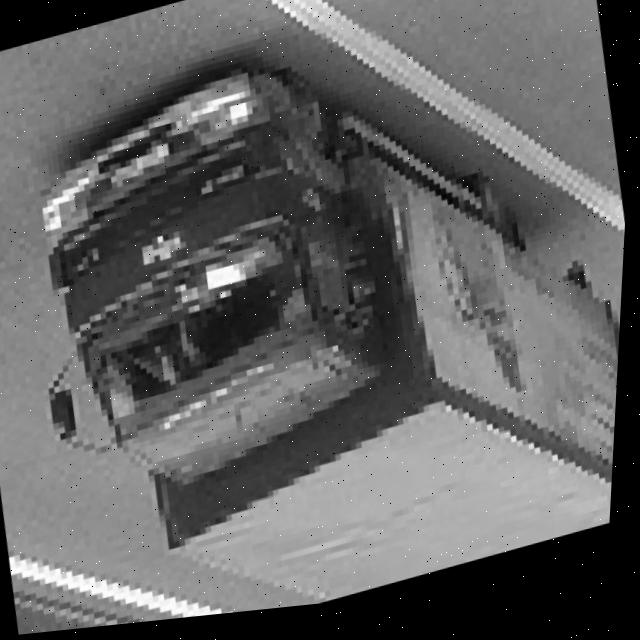truck: (1, 27, 454, 541)
